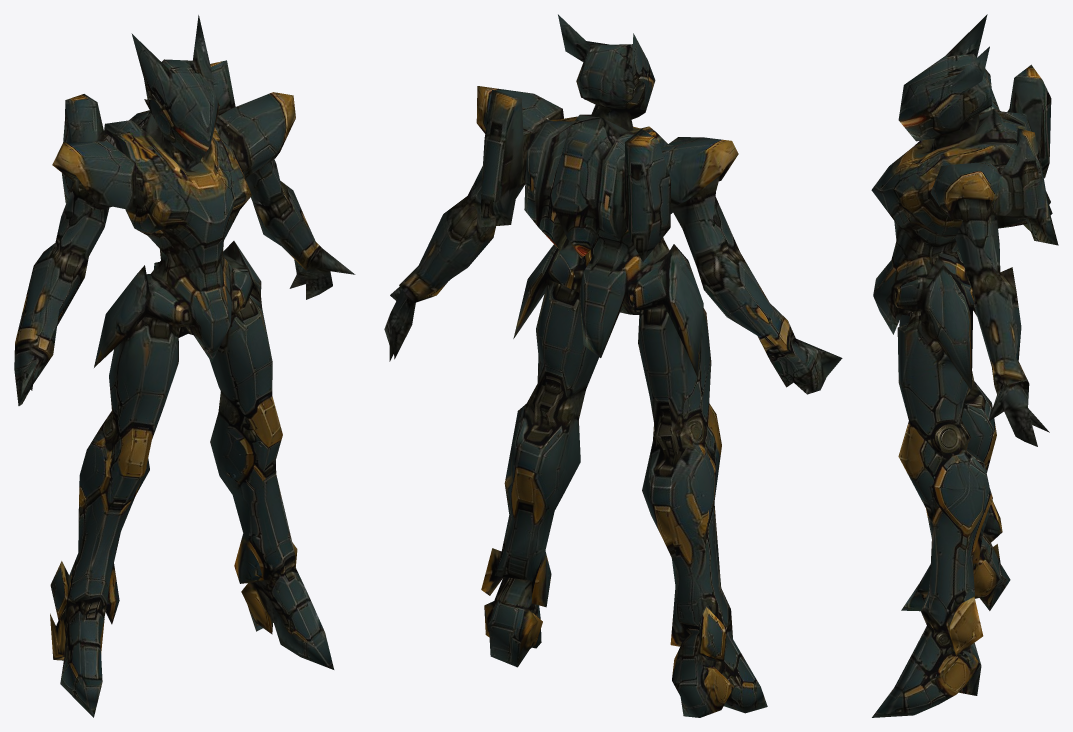
File: raven.glb
The picture shows the model from 3 angles, left to right: view 1: azimuth 30°, elevation 25°; view 2: azimuth 150°, elevation 25°; view 3: azimuth 270°, elevation 25°; orthographic projection. The views are drawn at different scales.
Visible parts, largest first — view 1: torso, legL, legR, armSwing, armAim, wingL, wingR; view 2: torso, legR, legL, wingR, armAim, wingL, armSwing; view 3: torso, legL, armAim, legR, wingR, wingL.
Boxes of the visible parts, x1=… form: torso: x1=33, y1=15, x2=295, y2=395; legL: x1=210, y1=350, x2=334, y2=669; legR: x1=50, y1=363, x2=175, y2=717; armSwing: x1=14, y1=207, x2=109, y2=405; armAim: x1=250, y1=159, x2=355, y2=299; wingL: x1=62, y1=94, x2=134, y2=227; wingR: x1=210, y1=60, x2=235, y2=116; torso: x1=476, y1=14, x2=771, y2=396; legR: x1=642, y1=349, x2=767, y2=717; legL: x1=481, y1=331, x2=599, y2=667; wingR: x1=480, y1=90, x2=565, y2=250; armAim: x1=384, y1=171, x2=495, y2=361; wingL: x1=596, y1=128, x2=672, y2=261; armSwing: x1=704, y1=284, x2=842, y2=394; torso: x1=871, y1=14, x2=1050, y2=403; legL: x1=872, y1=370, x2=992, y2=717; armAim: x1=955, y1=216, x2=1049, y2=446; legR: x1=901, y1=371, x2=1010, y2=611; wingR: x1=994, y1=128, x2=1058, y2=245; wingL: x1=1007, y1=64, x2=1051, y2=178.
Size of the model in its own units: 0.6055 by 0.978 by 0.2602.
Materials: 1 (1 with a texture image).
